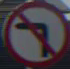Don't turn left: (10, 7, 63, 58)
